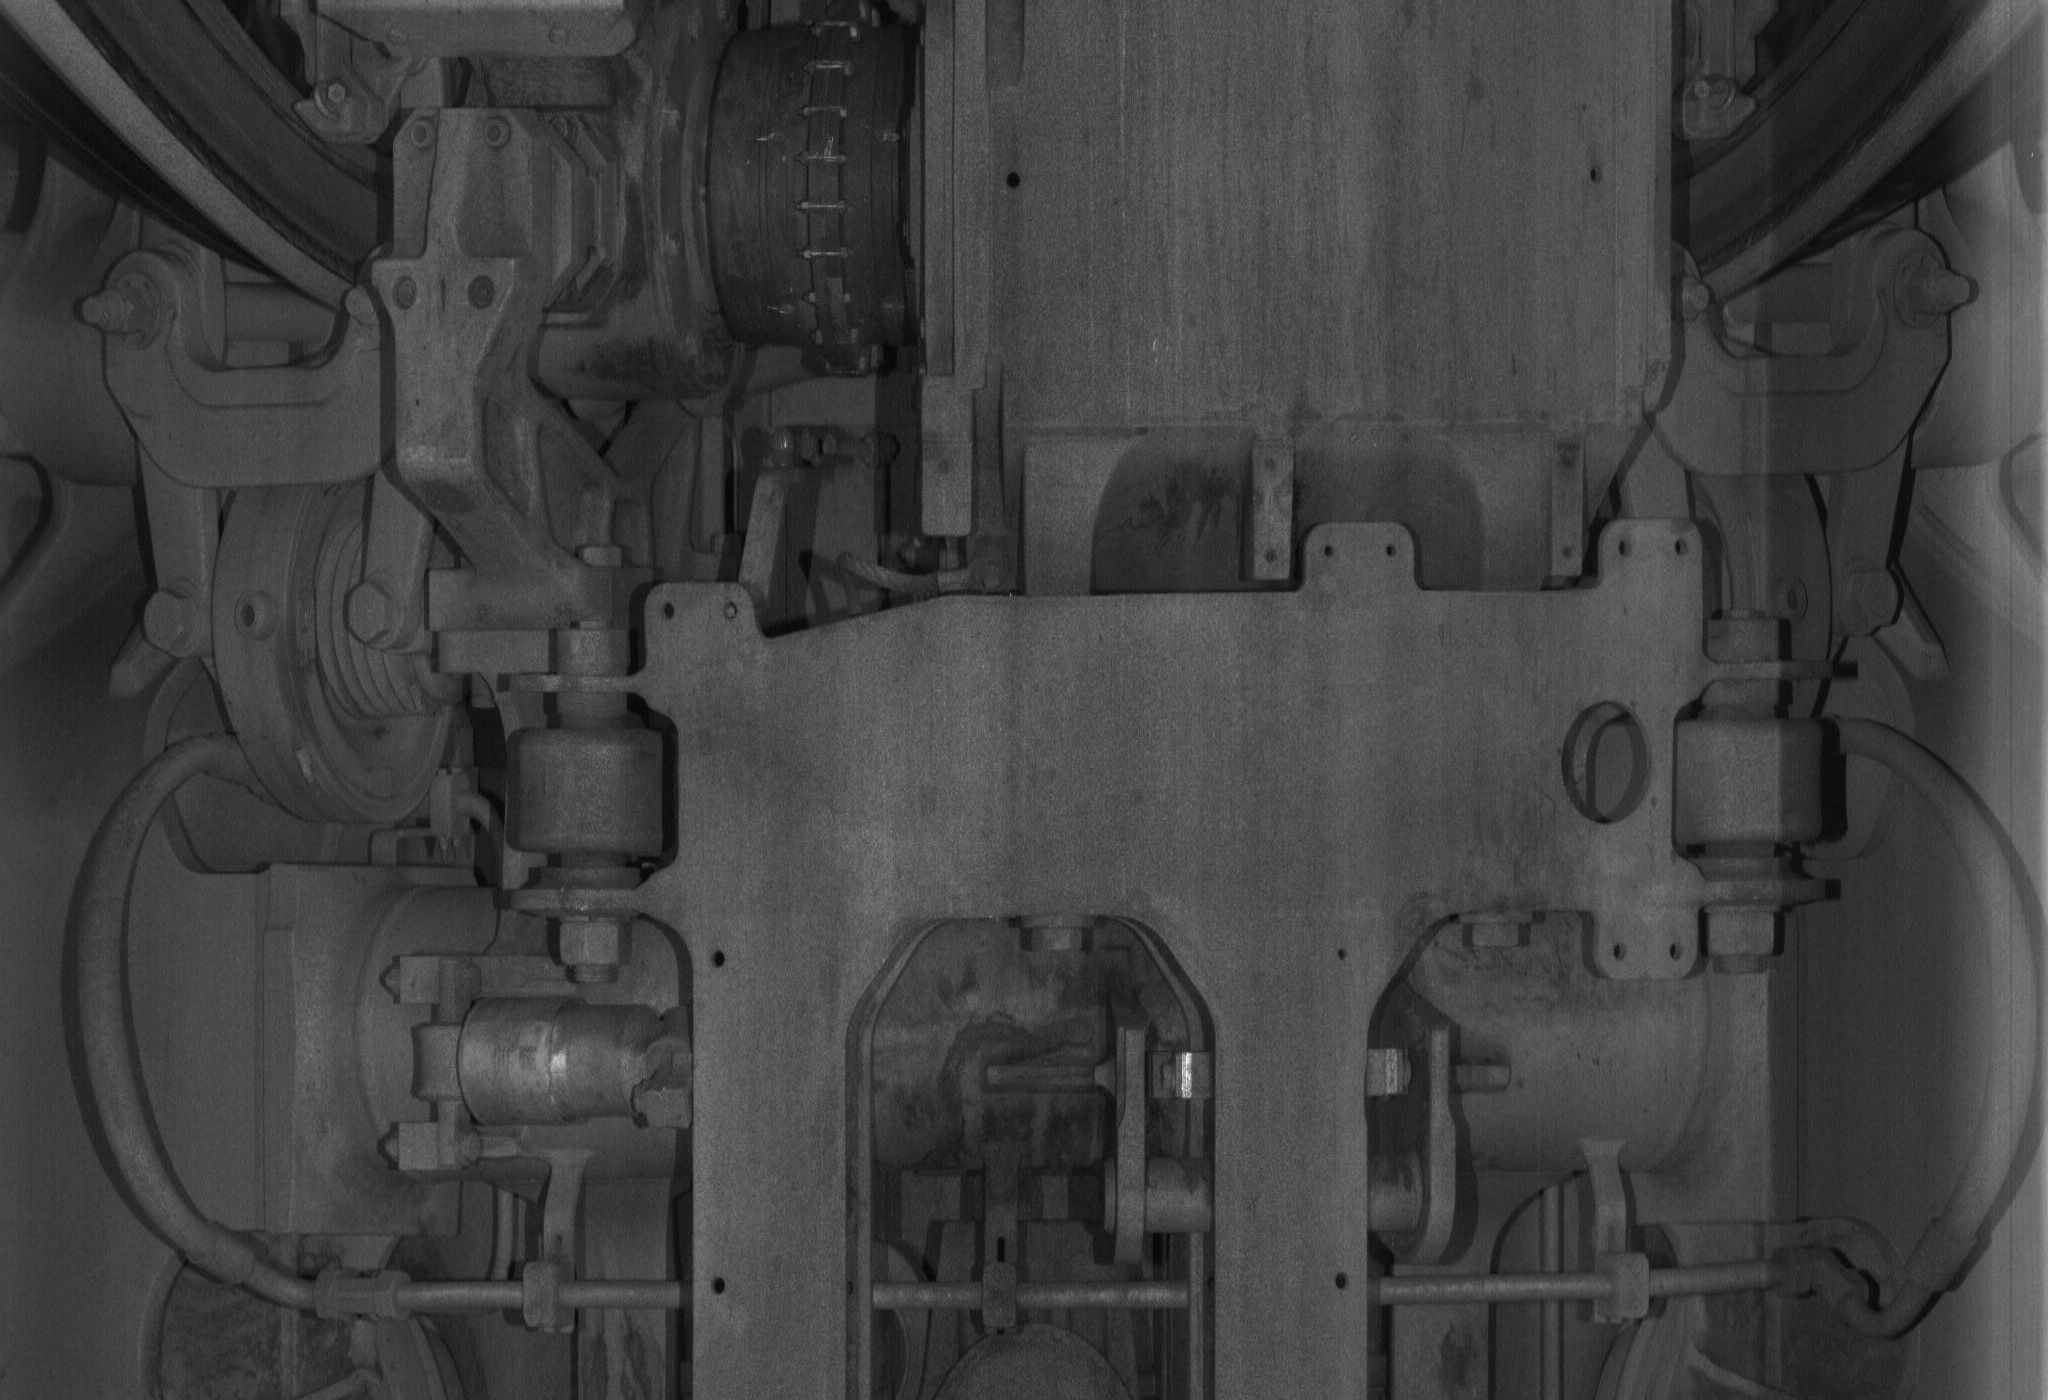area: (216, 488, 317, 778)
